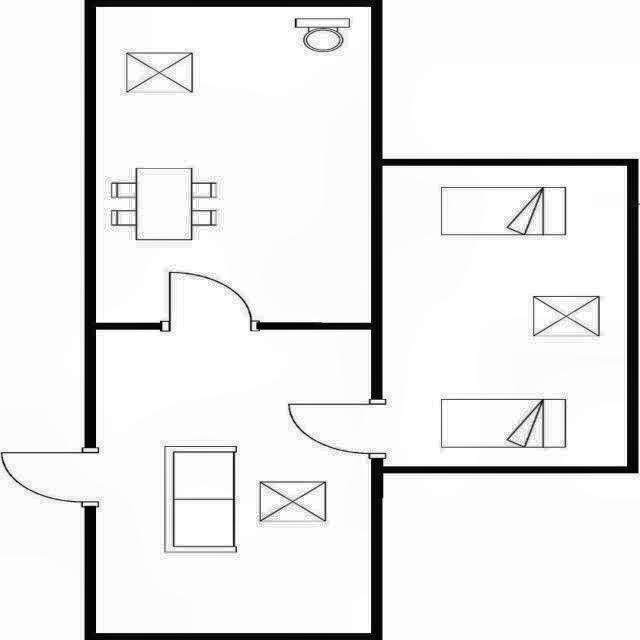room: (96, 7, 371, 323), (96, 330, 371, 633), (382, 166, 627, 466)
